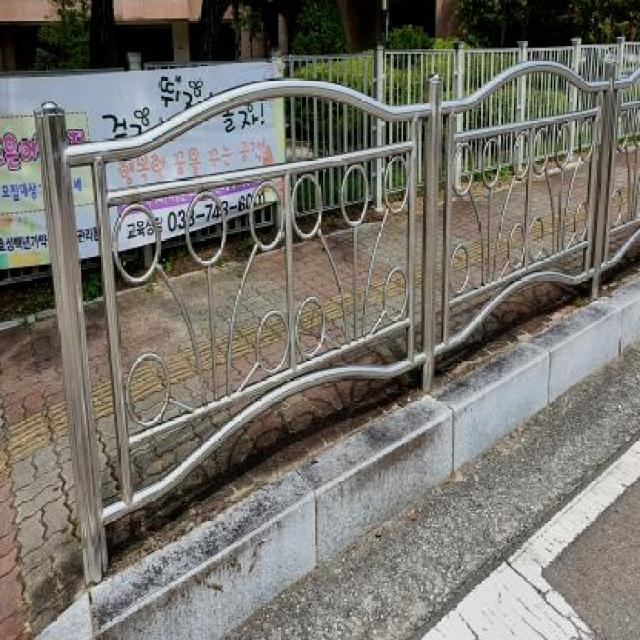fence: (29, 81, 455, 640), (424, 46, 640, 403)
